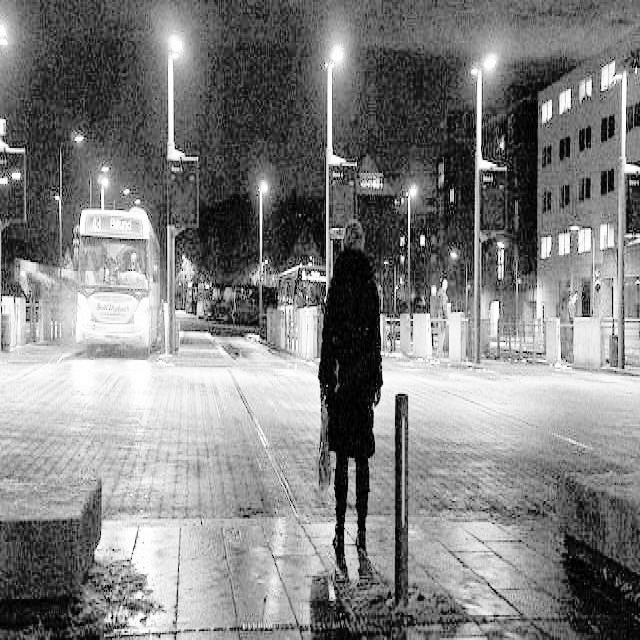Bus: (69, 206, 174, 379), (180, 260, 289, 368), (265, 237, 346, 379)
Person: (314, 199, 387, 599), (429, 257, 461, 377), (557, 278, 594, 376)
